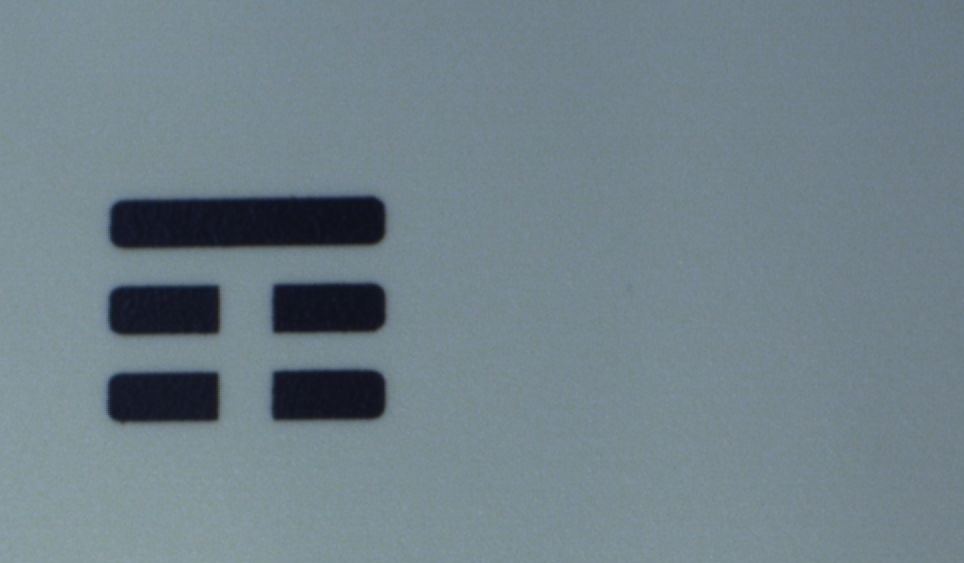BV_F6600PTIM: (89, 182, 398, 437)
